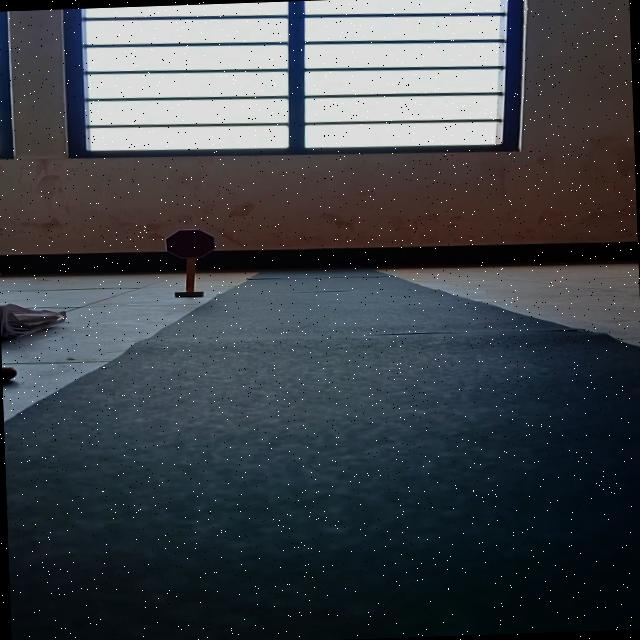Stop: (163, 228, 216, 258)
